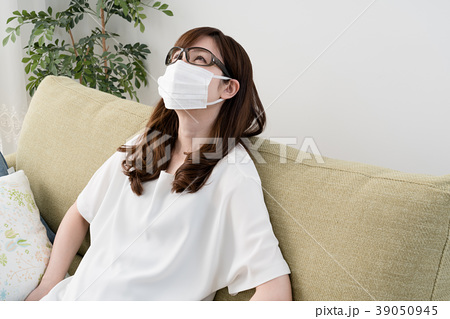mask: (157, 64, 216, 117)
